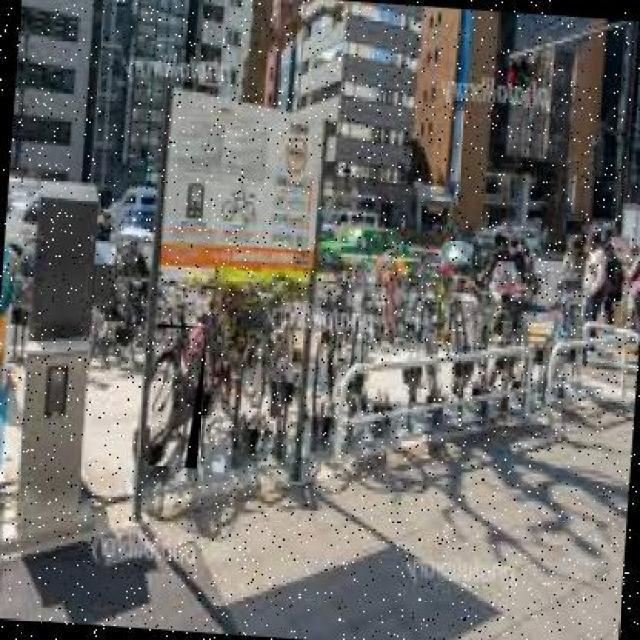bicycle: (148, 325, 208, 471)
